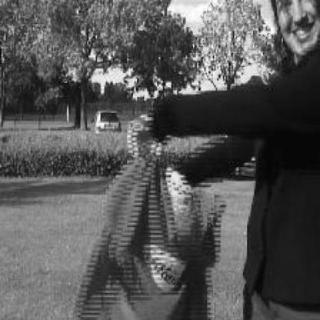other: (78, 150, 218, 314)
